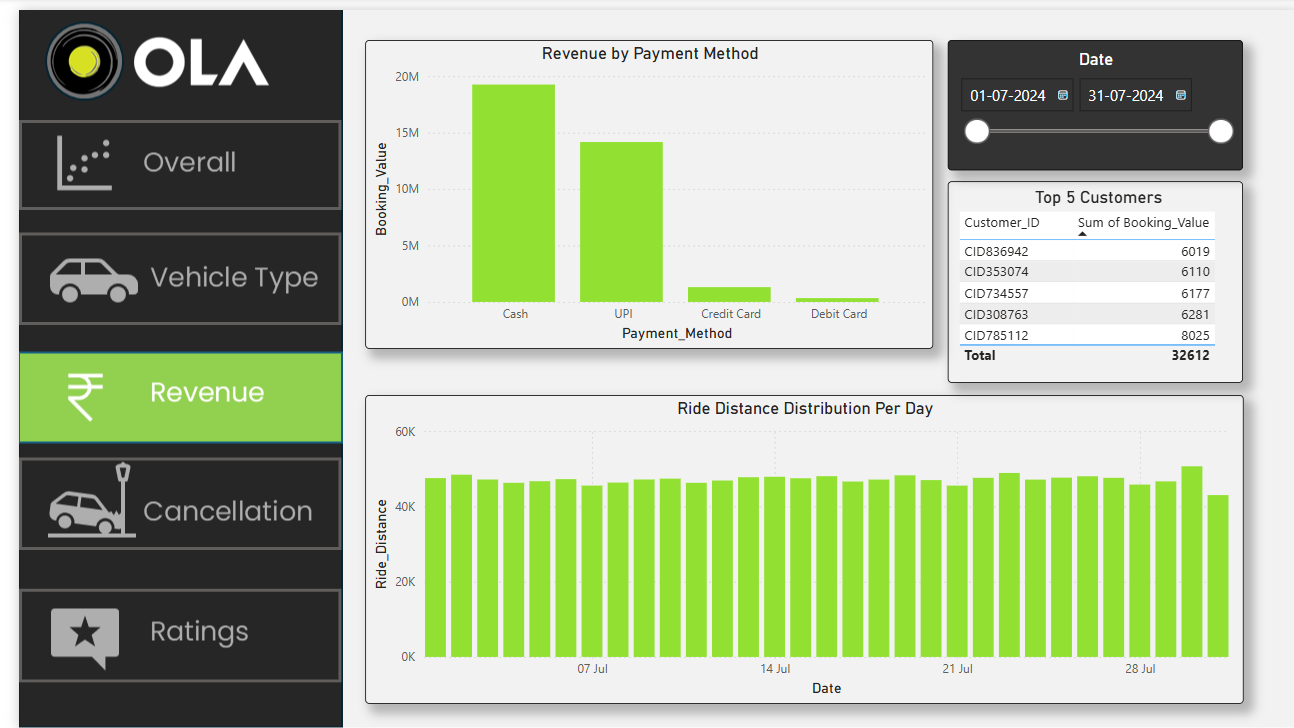

The dashboard page shown, as its layout file describes it:
{"tool":"powerbi","page":{"name":"Revenue","canvas":[1280,720],"ordinal":2},"visuals":[{"type":"actionButton","box":[0,222.5,322.5,92.5],"z":0},{"type":"actionButton","box":[0,447.5,322.5,92.5],"z":1000},{"type":"actionButton","box":[0,578.8,322.5,93.8],"z":2000},{"type":"actionButton","box":[0,110,322.5,90],"z":3000},{"type":"columnChart","title":"Revenue by Payment Method","fields":{"Category":["July.Payment_Method"],"Y":["Sum(July.Booking_Value)"]},"box":[345.8,30.2,568.1,308.7],"z":4000},{"type":"columnChart","title":" Ride Distance Distribution Per Day","fields":{"Y":["Sum(July.Ride_Distance)"],"Category":["July.Date"]},"box":[345.8,385.6,878.2,308.7],"z":5000},{"type":"slicer","title":"Date","fields":{"Values":["July.Date"]},"box":[929,30.2,295,130.4],"z":6000},{"type":"tableEx","title":"Top 5 Customers","fields":{"Values":["July.Customer_ID","Sum(July.Booking_Value)"]},"box":[929,171.5,295,201.7],"z":7000}]}

Visuals, with their boxes in screenshot pixels (x1, y1, x2, y2), scaled from the page's 1280x720 canvas onto the 1294x728 screenshot:
actionButton: box=[0, 225, 326, 318]
actionButton: box=[0, 452, 326, 546]
actionButton: box=[0, 585, 326, 680]
actionButton: box=[0, 111, 326, 202]
"Revenue by Payment Method" columnChart: box=[350, 31, 924, 343]
" Ride Distance Distribution Per Day" columnChart: box=[350, 390, 1237, 702]
"Date" slicer: box=[939, 31, 1237, 162]
"Top 5 Customers" tableEx: box=[939, 173, 1237, 377]
